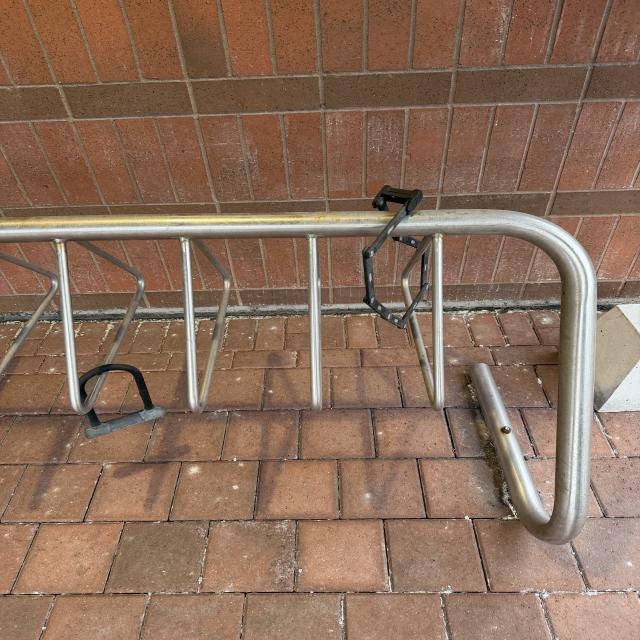Bicycle Rack: (0, 205, 599, 544)
